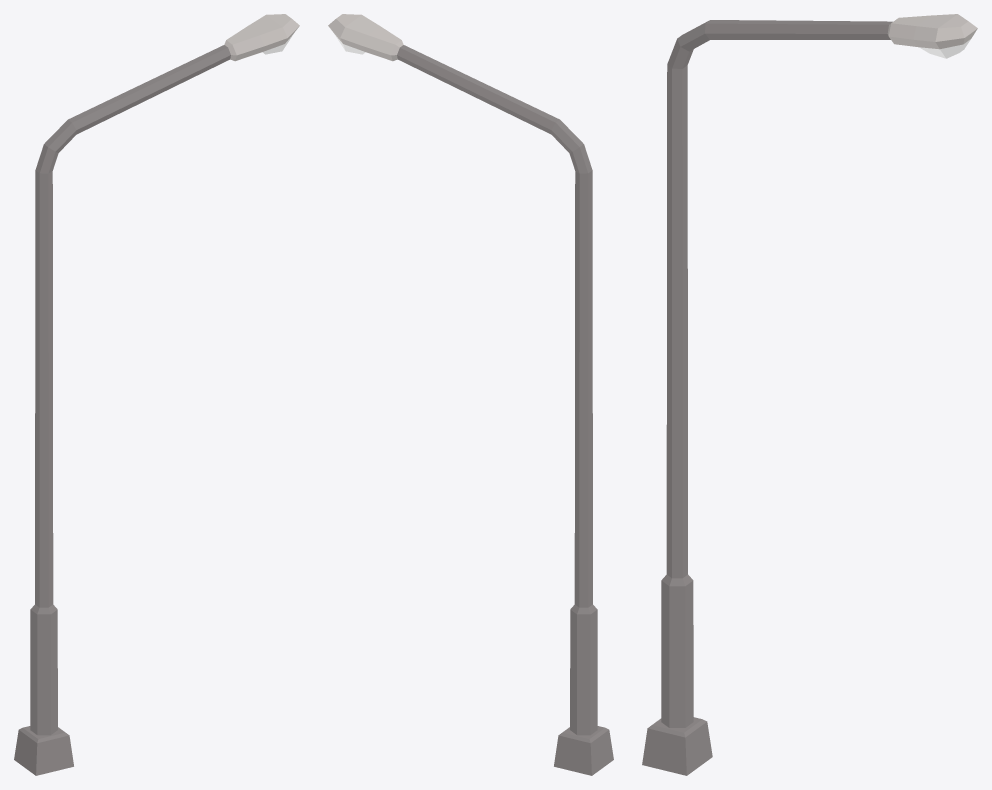
The model's file is lamp-road.glb.
The picture shows the model from 3 angles, left to right: view 1: azimuth 30°, elevation 25°; view 2: azimuth 150°, elevation 25°; view 3: azimuth 330°, elevation 25°; orthographic projection. The views are drawn at different scales.
Visible parts, largest first — view 1: lamp-road; view 2: lamp-road; view 3: lamp-road.
Boxes of the visible parts, box(x1,y1,x2,y2) form: lamp-road: box(14, 14, 299, 775); lamp-road: box(328, 14, 613, 775); lamp-road: box(642, 14, 977, 775).
Bounding box in the file's own units: 3.88 × 9.46 × 0.5996.
Materials: 1 (1 with a texture image).
